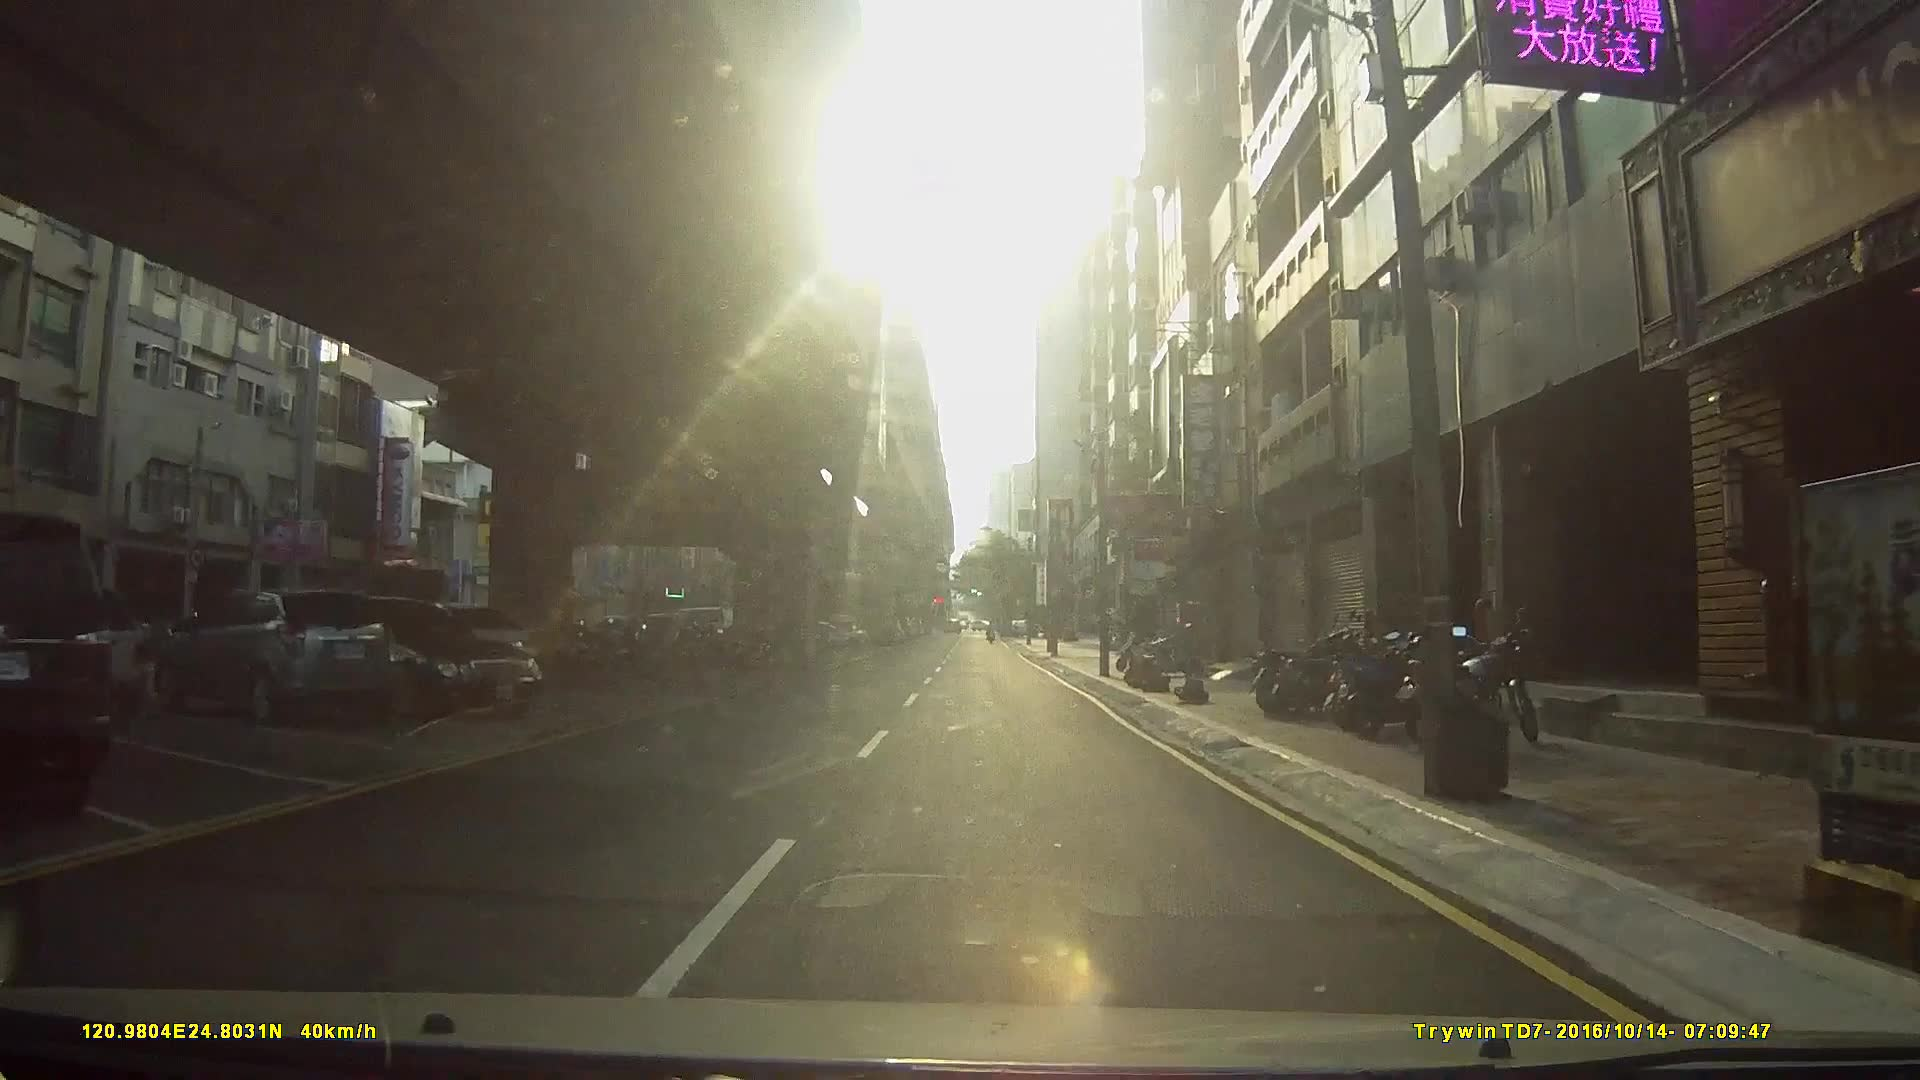vehicle: (0, 509, 117, 822), (150, 585, 396, 728), (286, 601, 542, 723)
